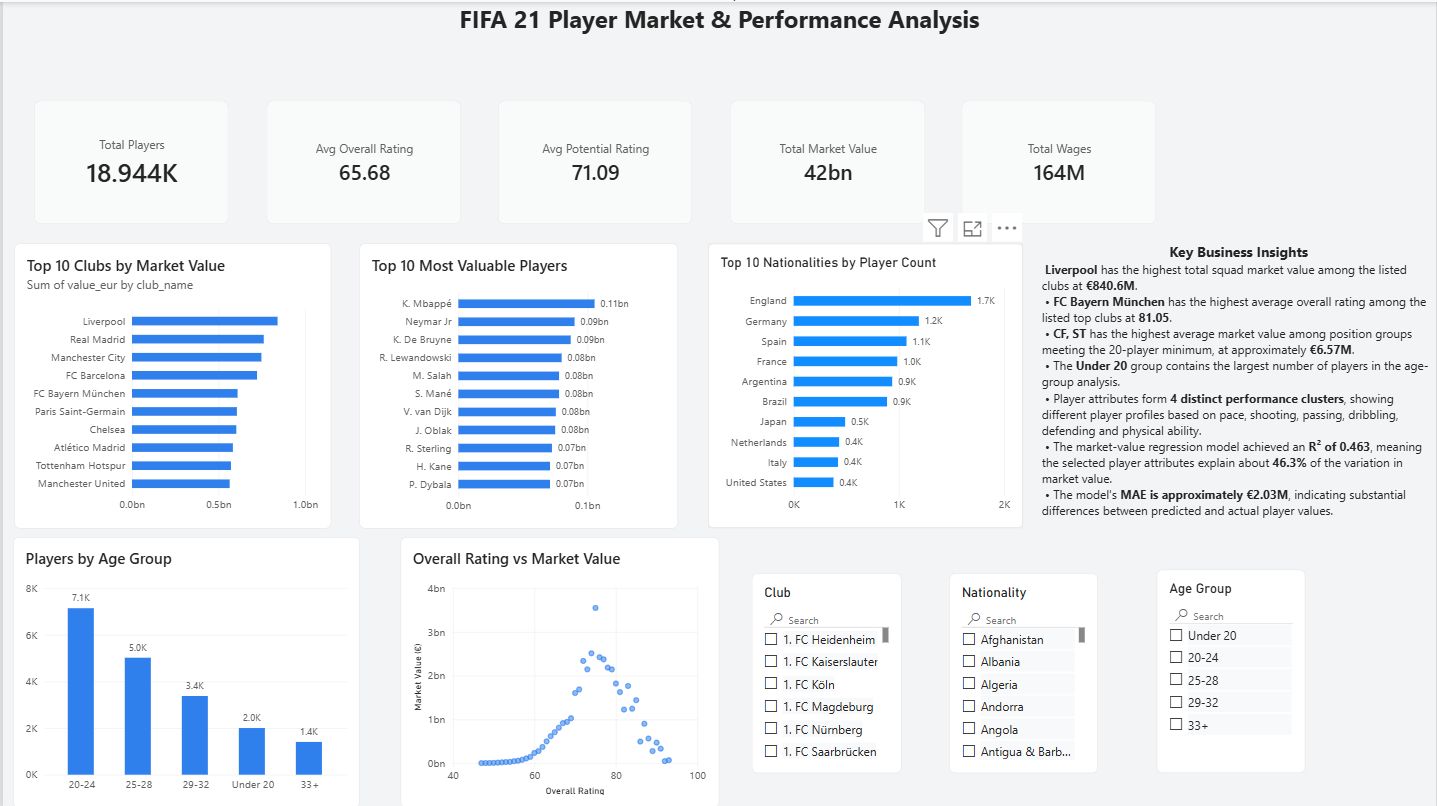

This screenshot's page, from the dashboard's own definition file:
{"tool":"powerbi","page":{"name":"Page 1","canvas":[1920,1080],"ordinal":0},"visuals":[{"type":"cardVisual","title":"Total Players","fields":{"Data":["CountNonNull(fifa21_players_cleaned.short_name)"]},"box":[42.5,132.5,260,165],"z":0},{"type":"cardVisual","title":"Average Overall","fields":{"Data":["Avg(fifa21_players_cleaned.overall)"]},"box":[353.1,132.5,260,165],"z":1000},{"type":"cardVisual","title":"Average Potential","fields":{"Data":["Avg(fifa21_players_cleaned.potential)"]},"box":[663.8,132.5,260,165],"z":2000},{"type":"cardVisual","title":"Total Market Value","fields":{"Data":["Sum(fifa21_players_cleaned.value_eur)"]},"box":[974.4,132.5,260,165],"z":3000},{"type":"cardVisual","title":"Total Wages","fields":{"Data":["Sum(fifa21_players_cleaned.wage_eur)"]},"box":[1285,132.5,260,165],"z":4000},{"type":"clusteredBarChart","title":"Top 10 Clubs by Market Value","fields":{"Category":["fifa21_players_cleaned.club_name"],"Y":["Sum(fifa21_players_cleaned.value_eur)"]},"box":[15,322.5,425,382.5],"z":5000},{"type":"clusteredBarChart","title":"Top 10 Most Valuable Players","fields":{"Category":["fifa21_players_cleaned.short_name"],"Y":["Sum(fifa21_players_cleaned.value_eur)"]},"box":[477.5,322.5,427.5,382.5],"z":6000},{"type":"clusteredColumnChart","title":"Players by Age Group","fields":{"Y":["CountNonNull(fifa21_players_cleaned.short_name)"],"Category":["fifa21_players_cleaned.AgeGroup"]},"box":[13.3,716.7,465,363.3],"z":7000},{"type":"scatterChart","title":"Overall Rating vs Market Value","fields":{"X":["fifa21_players_cleaned.overall"],"Y":["Sum(fifa21_players_cleaned.value_eur)"]},"box":[533.3,716.7,427,363],"z":8000},{"type":"textbox","box":[0,0,1920,62],"z":9000},{"type":"listSlicer","fields":{"Values":["fifa21_players_cleaned.club_name"]},"box":[1003.1,765.3,201,268],"z":10000},{"type":"listSlicer","fields":{"Values":["fifa21_players_cleaned.AgeGroup"]},"box":[1545.5,760.4,199.3,273],"z":11000},{"type":"listSlicer","fields":{"Values":["fifa21_players_cleaned.nationality"]},"box":[1268.1,765.3,199.3,268],"z":12000},{"type":"clusteredBarChart","title":"Top 10 Nationalities by Player Count","fields":{"Category":["fifa21_players_cleaned.nationality"],"Y":["CountNonNull(fifa21_players_cleaned.short_name)"]},"box":[945.4,322.7,422.1,382],"z":13000},{"type":"textbox","box":[1392,322,527.6,381.4],"z":13001}]}

Visuals, with their boxes in screenshot pixels (x1, y1, x2, y2), scaled from the page's 1920x1080 canvas onto the 1437x806 screenshot:
"Total Players" cardVisual: [x1=32, y1=99, x2=226, y2=222]
"Average Overall" cardVisual: [x1=264, y1=99, x2=459, y2=222]
"Average Potential" cardVisual: [x1=497, y1=99, x2=691, y2=222]
"Total Market Value" cardVisual: [x1=729, y1=99, x2=924, y2=222]
"Total Wages" cardVisual: [x1=962, y1=99, x2=1156, y2=222]
"Top 10 Clubs by Market Value" clusteredBarChart: [x1=11, y1=241, x2=329, y2=526]
"Top 10 Most Valuable Players" clusteredBarChart: [x1=357, y1=241, x2=677, y2=526]
"Players by Age Group" clusteredColumnChart: [x1=10, y1=535, x2=358, y2=805]
"Overall Rating vs Market Value" scatterChart: [x1=399, y1=535, x2=719, y2=805]
textbox: [x1=0, y1=0, x2=1436, y2=46]
listSlicer - fifa21_players_cleaned.club_name: [x1=751, y1=571, x2=901, y2=771]
listSlicer - fifa21_players_cleaned.AgeGroup: [x1=1157, y1=567, x2=1306, y2=771]
listSlicer - fifa21_players_cleaned.nationality: [x1=949, y1=571, x2=1098, y2=771]
"Top 10 Nationalities by Player Count" clusteredBarChart: [x1=708, y1=241, x2=1023, y2=526]
textbox: [x1=1042, y1=240, x2=1436, y2=525]
